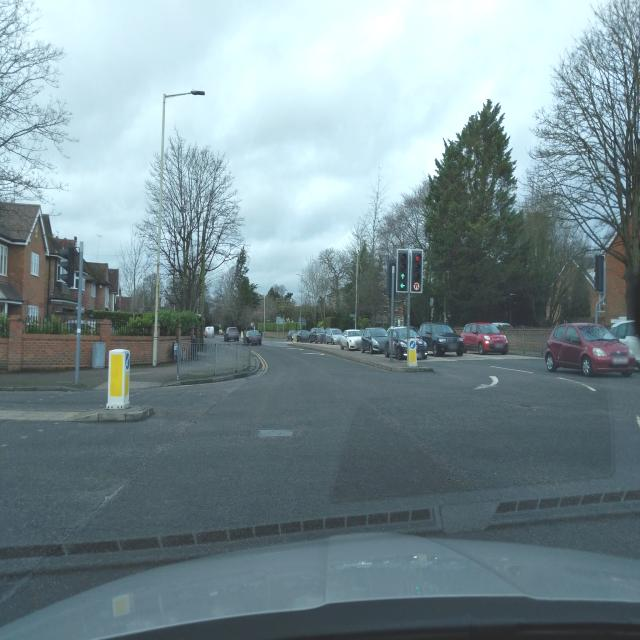car: (544, 322, 634, 378), (607, 317, 640, 372), (460, 322, 510, 356), (419, 322, 465, 357), (384, 326, 428, 360), (360, 327, 388, 355), (340, 329, 362, 350), (243, 330, 262, 346), (324, 328, 342, 344), (328, 328, 344, 345), (224, 326, 240, 342), (204, 326, 218, 340), (315, 328, 327, 343), (309, 328, 321, 343), (296, 330, 311, 342), (286, 330, 298, 341)
